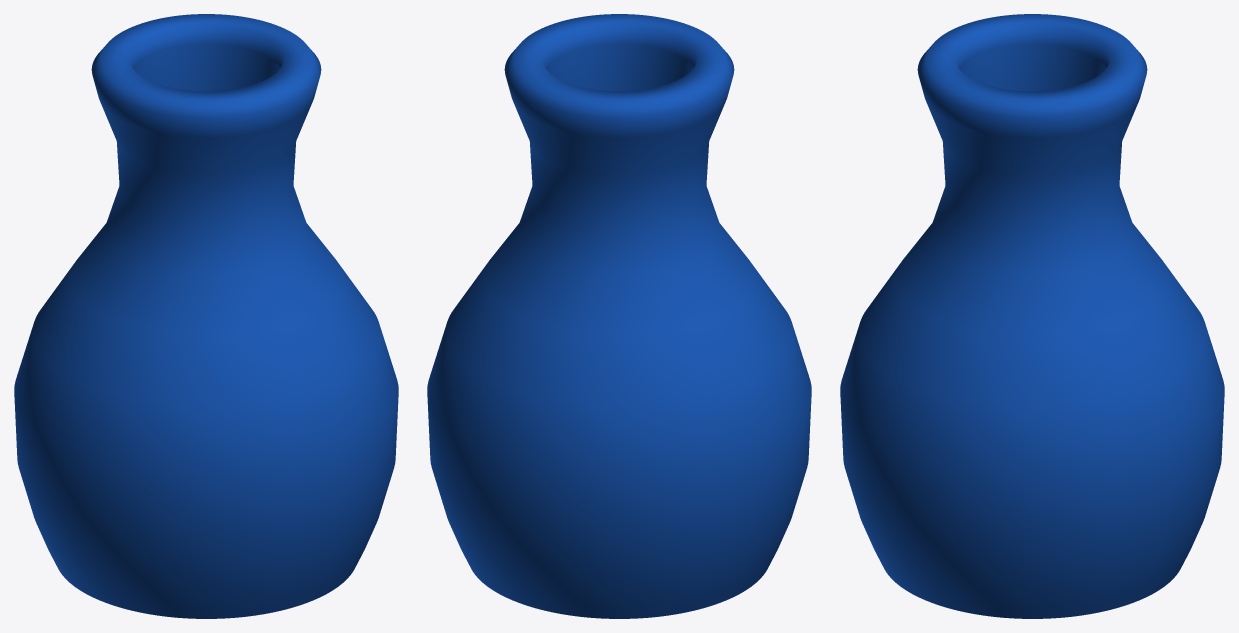
Rendered from sculpture.glb.
3 views of the same model, side by side, from view 1: azimuth 30°, elevation 25°; view 2: azimuth 150°, elevation 25°; view 3: azimuth 270°, elevation 25° (orthographic).
Visible parts, largest first — view 1: Azure Vessel; view 2: Azure Vessel; view 3: Azure Vessel.
Boxes of the visible parts, x1=… form: Azure Vessel: x1=14, y1=14, x2=398, y2=618; Azure Vessel: x1=427, y1=14, x2=811, y2=618; Azure Vessel: x1=840, y1=14, x2=1224, y2=618.
Bounding box in the file's own units: 1.24 × 1.8 × 1.24.
